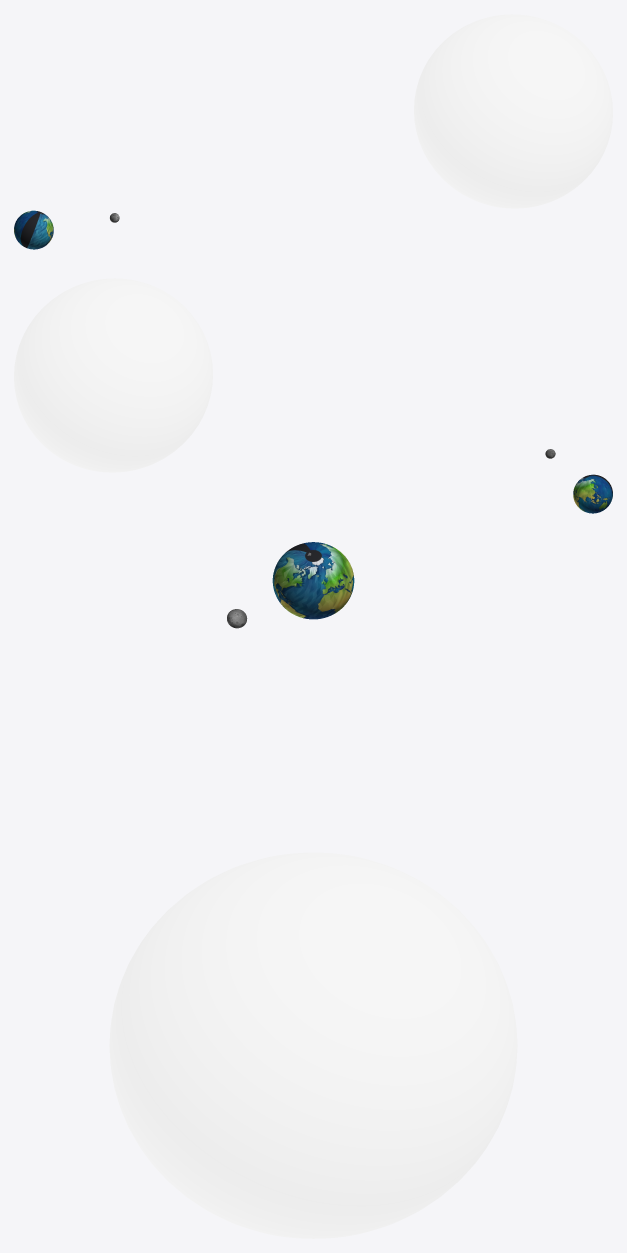
Rendered from ayush2.glb.
The picture shows the model from 3 angles, top to bottom: view 1: azimuth 30°, elevation 25°; view 2: azimuth 150°, elevation 25°; view 3: azimuth 270°, elevation 25°; orthographic projection. The views are drawn at different scales.
Visible parts, largest first — view 1: Object_2, Object_4; view 2: Object_2, Object_4; view 3: Object_2, Object_4.
Part boxes in pixels (x1=…): Object_2: x1=414, y1=14, x2=612, y2=208; Object_4: x1=14, y1=210, x2=53, y2=249; Object_2: x1=14, y1=278, x2=212, y2=472; Object_4: x1=573, y1=474, x2=612, y2=513; Object_2: x1=109, y1=852, x2=517, y2=1238; Object_4: x1=272, y1=542, x2=354, y2=619.
Size of what is drawn, in the model's own units: 26.72 by 7.64 by 8.11.
3 materials, 2 textured.
